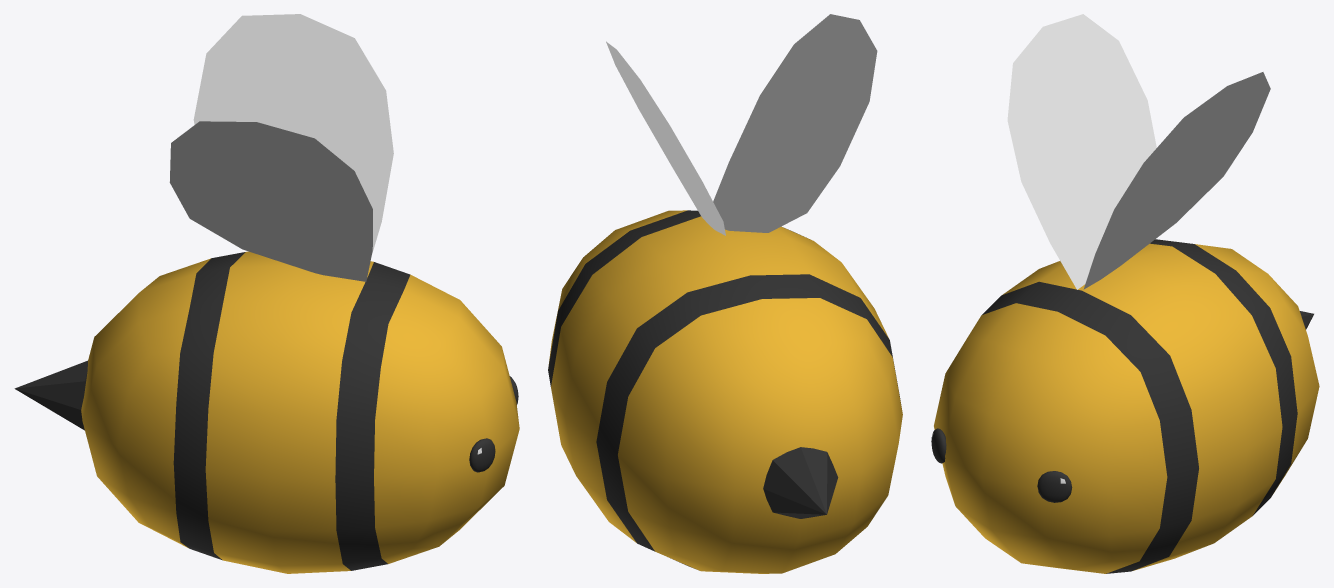
File: BeeModel.glb
The picture shows the model from 3 angles, left to right: view 1: azimuth 30°, elevation 25°; view 2: azimuth 150°, elevation 25°; view 3: azimuth 270°, elevation 25°; orthographic projection. The views are drawn at different scales.
Parts seen in each view (by area): view 1: Bee; view 2: Bee; view 3: Bee.
Boxes of the visible parts, x1,y1,x2,y2 form: Bee: [14, 14, 519, 573]; Bee: [548, 14, 902, 573]; Bee: [931, 14, 1319, 573].
Bounding box in the file's own units: 0.7252 × 0.9255 × 0.6641.
